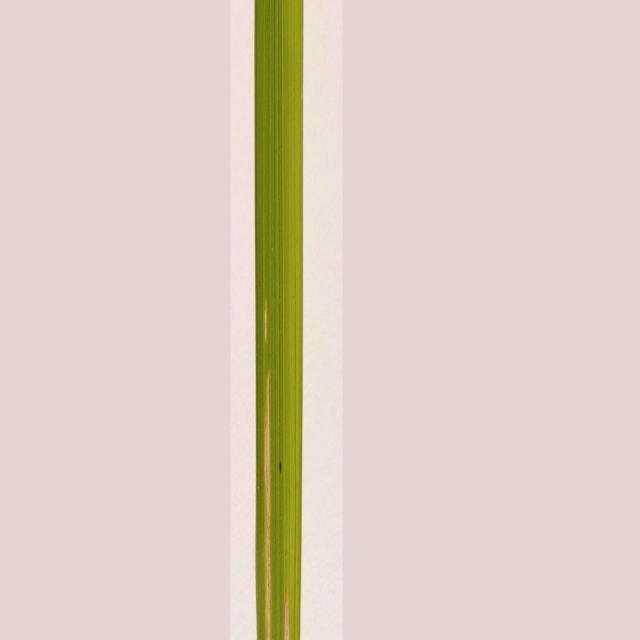Bacterial leaf blight: (231, 4, 338, 639)
